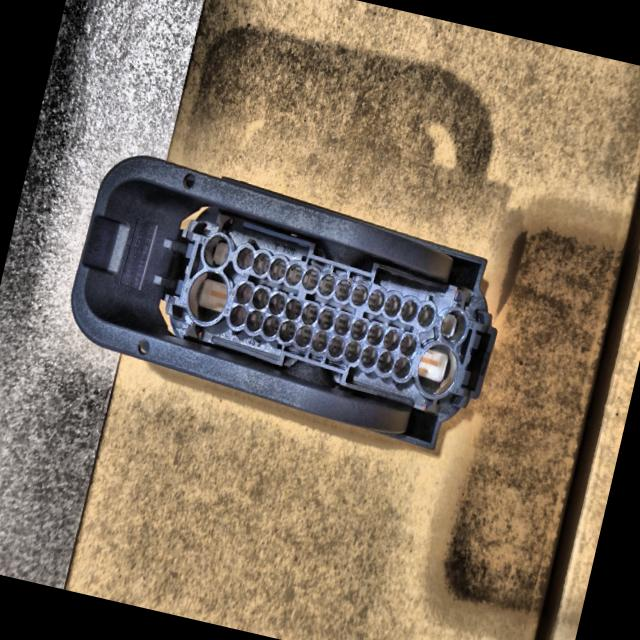P38: (71, 157, 496, 448)
